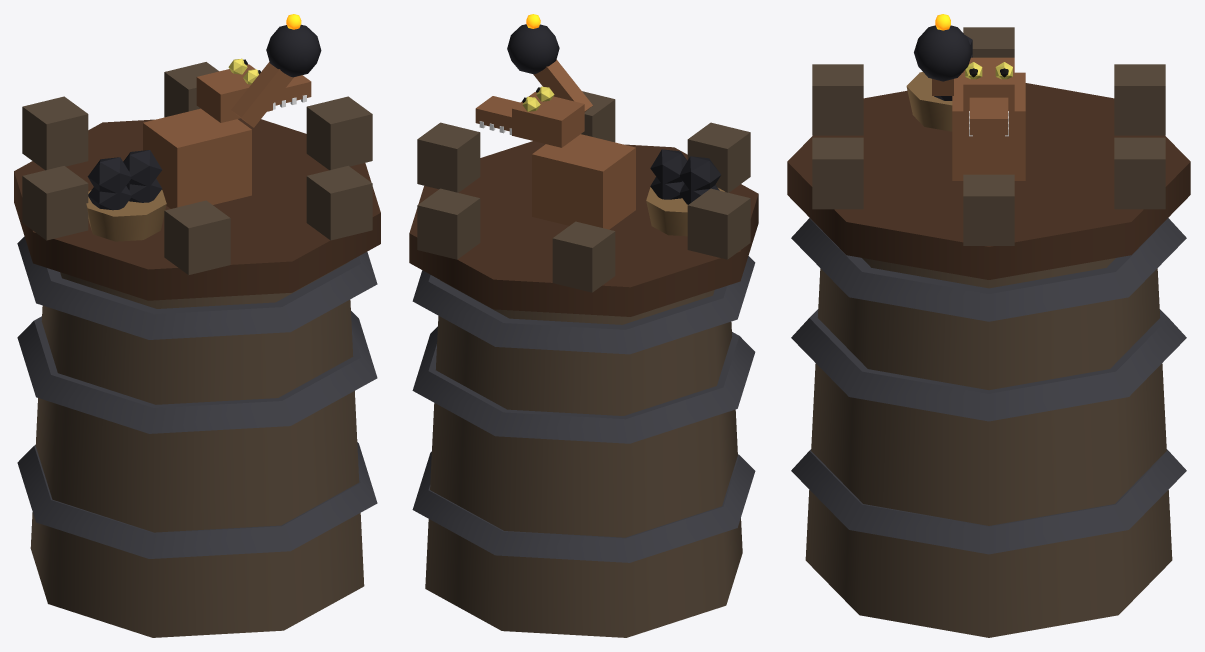
Rendered from goblin-level2.glb.
3 views of the same model, side by side, from view 1: azimuth 30°, elevation 25°; view 2: azimuth 150°, elevation 25°; view 3: azimuth 270°, elevation 25° (orthographic). The views are drawn at different scales.
Visible parts, largest first — view 1: object 1, object 2, turret, object 4, object 5, object 3, object 7, object 8, object 9, object 10, object 6, object 13 (+5 smaller); view 2: object 1, object 2, turret, object 4, object 5, object 3, object 9, object 10, object 11, object 6, object 8, object 13 (+4 smaller); view 3: object 1, object 2, object 4, object 5, object 3, turret, object 7, object 11, object 6, object 8, object 10, object 13 (+1 smaller).
Boxes of the visible parts, bbox=[...] form: object 1: bbox=[30, 262, 364, 637]; object 2: bbox=[14, 118, 380, 300]; turret: bbox=[143, 14, 321, 208]; object 4: bbox=[17, 311, 377, 433]; object 5: bbox=[17, 236, 377, 339]; object 3: bbox=[17, 442, 377, 558]; object 7: bbox=[306, 165, 372, 240]; object 8: bbox=[164, 200, 230, 274]; object 9: bbox=[22, 166, 88, 240]; object 10: bbox=[22, 96, 88, 170]; object 6: bbox=[306, 96, 372, 170]; object 13: bbox=[86, 190, 166, 241]; object 1: bbox=[425, 280, 742, 637]; object 2: bbox=[409, 141, 758, 316]; turret: bbox=[475, 14, 635, 229]; object 4: bbox=[412, 326, 755, 443]; object 5: bbox=[412, 256, 755, 354]; object 3: bbox=[412, 451, 755, 562]; object 9: bbox=[687, 188, 750, 259]; object 10: bbox=[552, 221, 615, 292]; object 11: bbox=[417, 188, 480, 259]; object 6: bbox=[417, 122, 480, 192]; object 8: bbox=[687, 122, 750, 192]; object 13: bbox=[646, 187, 724, 236]; object 1: bbox=[805, 258, 1172, 637]; object 2: bbox=[787, 83, 1190, 279]; object 4: bbox=[791, 309, 1186, 421]; object 5: bbox=[791, 218, 1186, 321]; object 3: bbox=[791, 449, 1186, 554]; turret: bbox=[914, 14, 1025, 180]; object 7: bbox=[812, 137, 863, 209]; object 11: bbox=[1114, 137, 1165, 209]; object 6: bbox=[963, 174, 1014, 245]; object 8: bbox=[812, 64, 863, 135]; object 10: bbox=[1114, 64, 1165, 135]; object 13: bbox=[906, 72, 952, 131].
Size of the model in its own units: 2.33 by 3.73 by 2.33.
